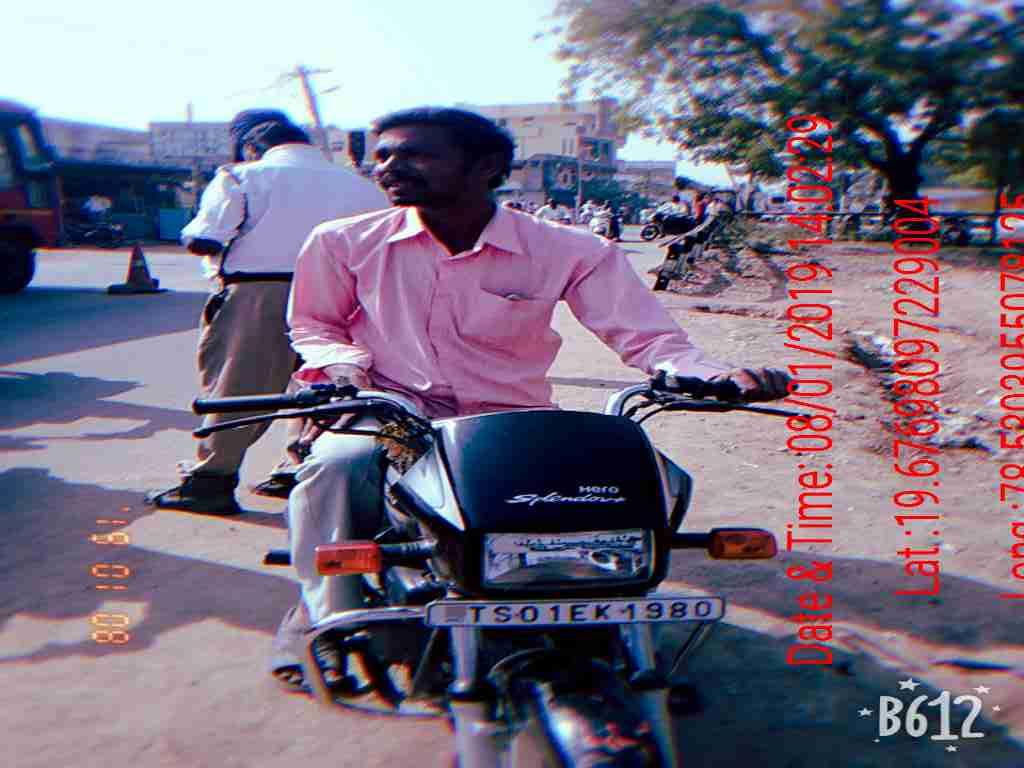plate: (420, 592, 733, 635)
